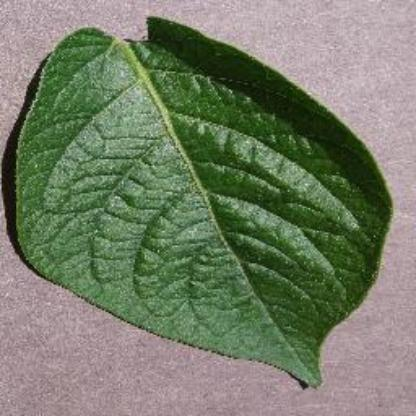Healthy-plant: (9, 15, 398, 393)
